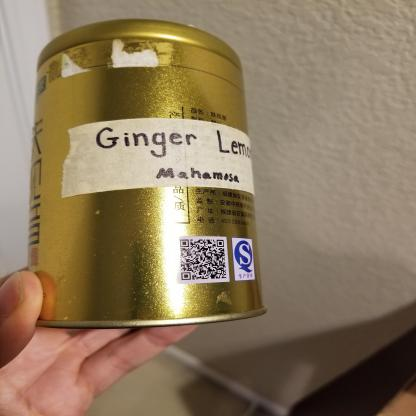qr: (179, 235, 229, 282)
